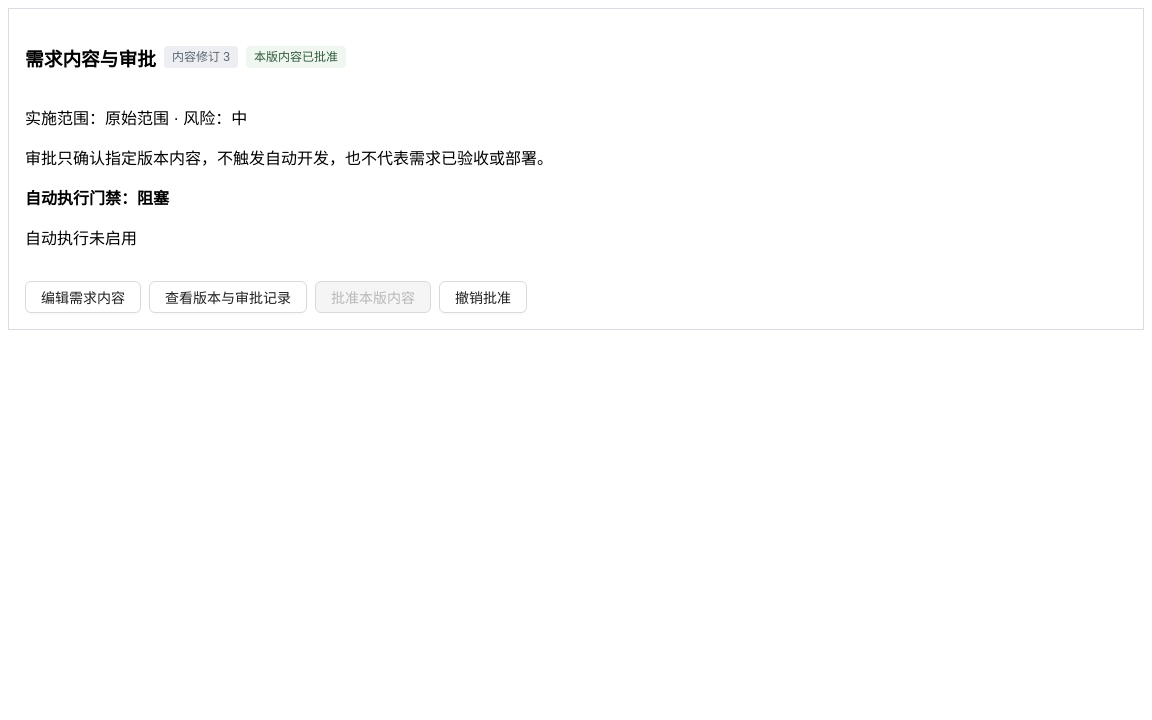
P08 独立前端验收 › 撤销使用当前固定版本，成功但刷新失败明确提示操作已记录
Click the button "撤销批准" at point(483, 297), box x1=439 y1=281 x2=527 y2=313
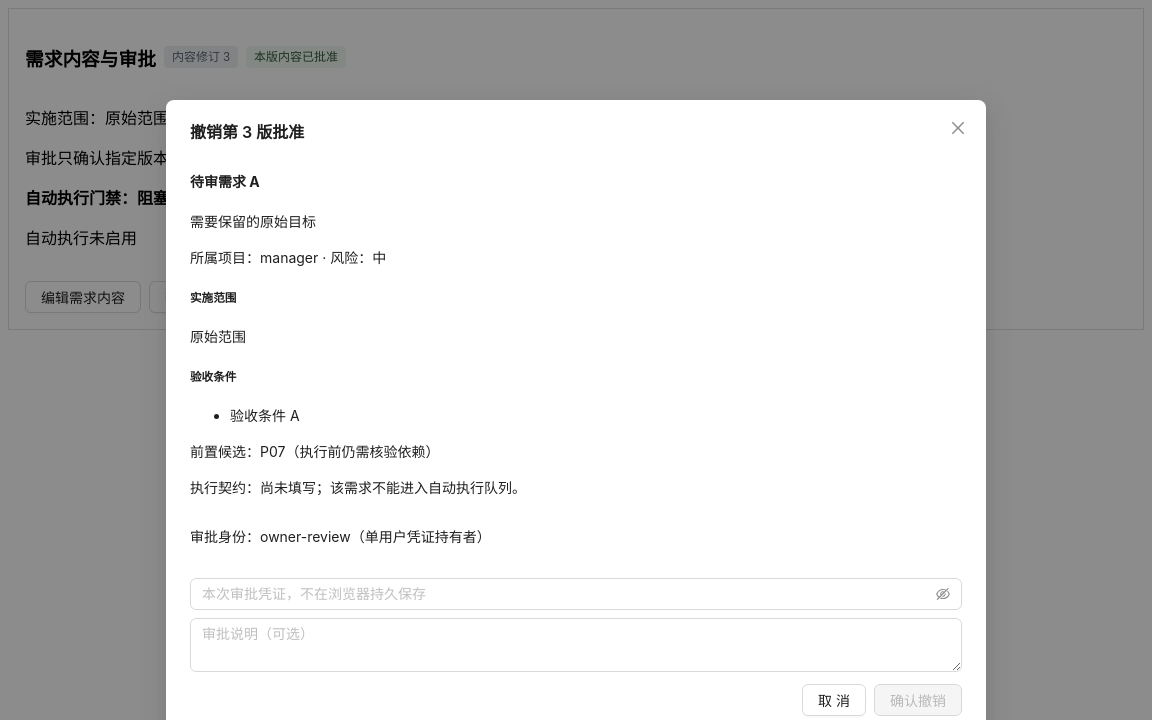
Type "test-review-only-credential-not-for-production" into the password field labelled "审批凭证" at point(567, 594), box x1=202 y1=583 x2=932 y2=605
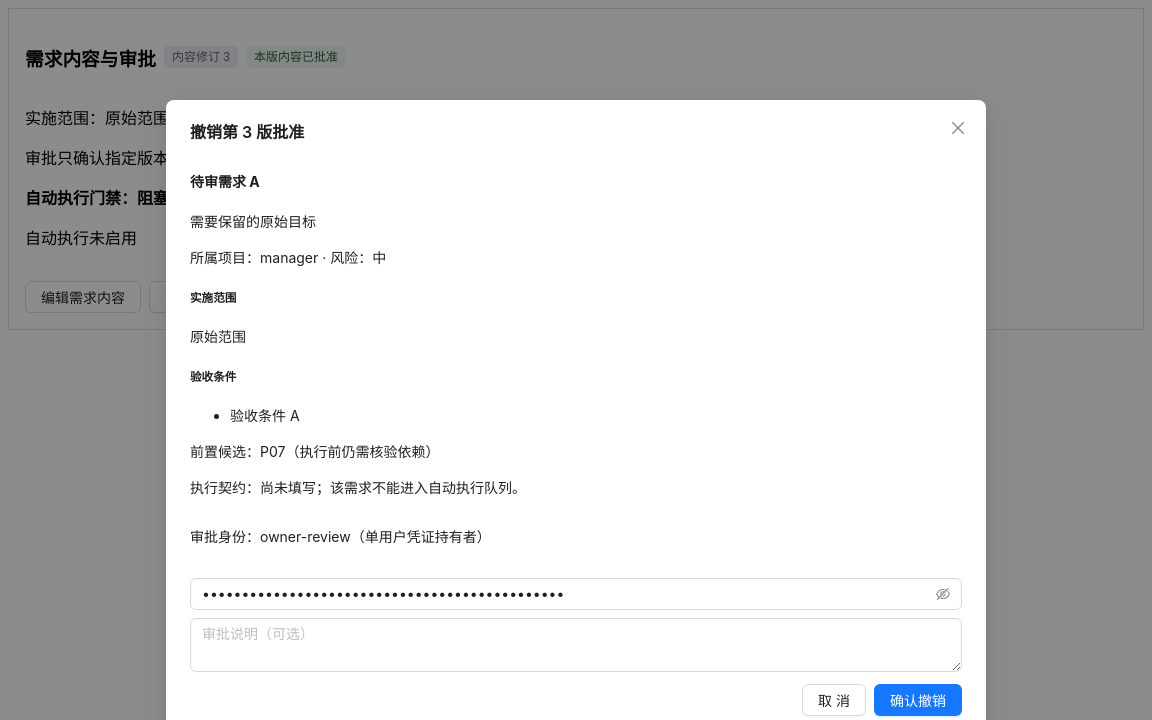
Click the button "确认撤销" at point(918, 700), box x1=874 y1=684 x2=962 y2=716
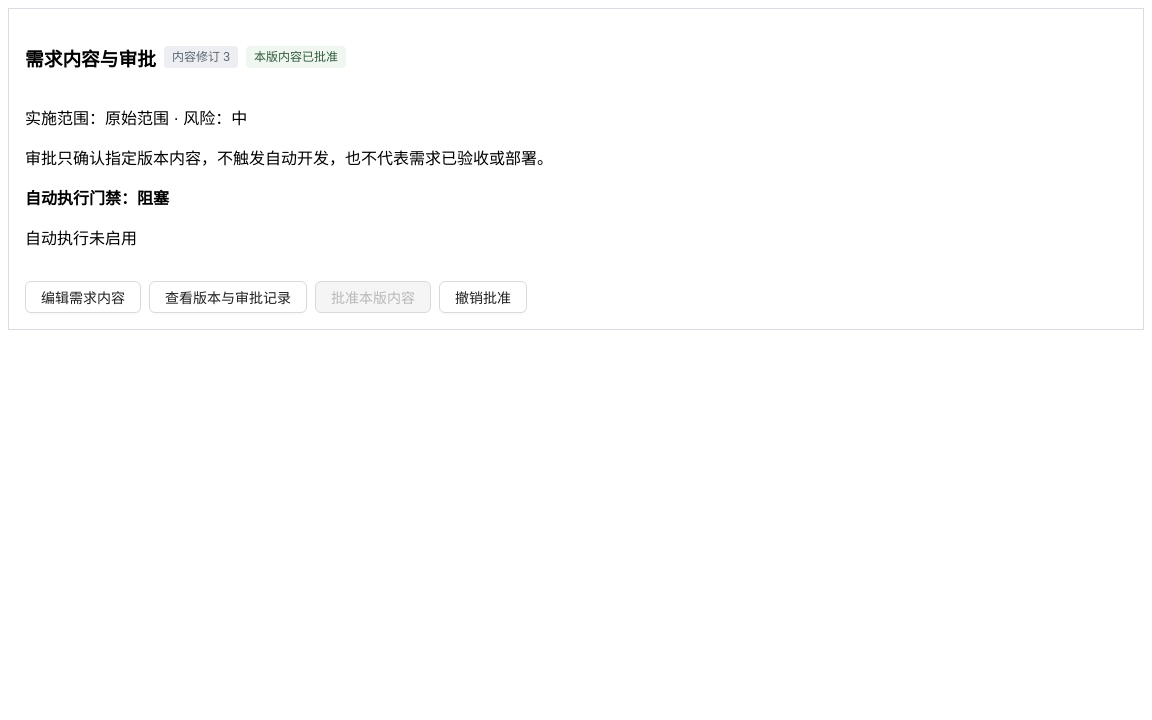
Expected: the password field labelled "审批凭证" is gone
